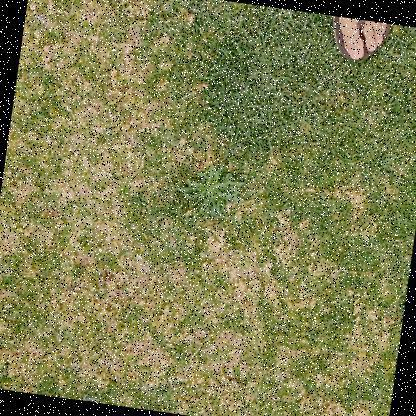Weeds: (172, 158, 248, 225)
